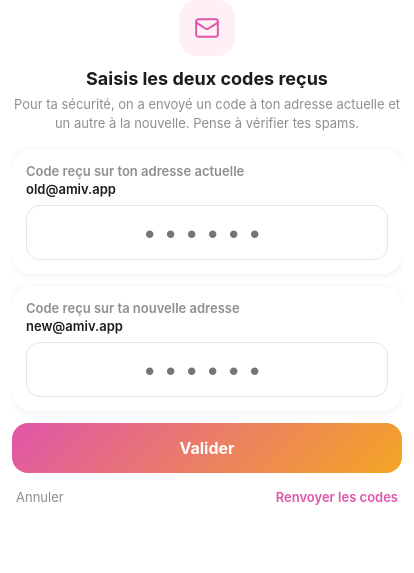
Test: EmailChangeCodeStep › renvoyer : bloqué 60 s, puis redemande le changement et remet les codes à zéro
Click the button "Renvoyer les codes" at point(337, 497), box [272, 485, 402, 509]
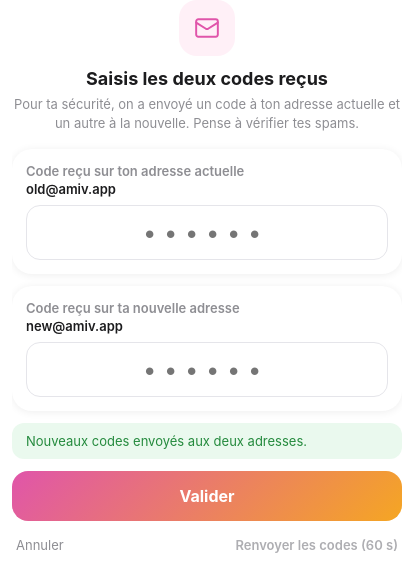
Now the text "Nouveaux codes envoyés aux deux adresses." is shown, box [12, 423, 402, 459]
Now the button "Renvoyer les codes (60 s)" is shown, box [231, 533, 402, 557]
